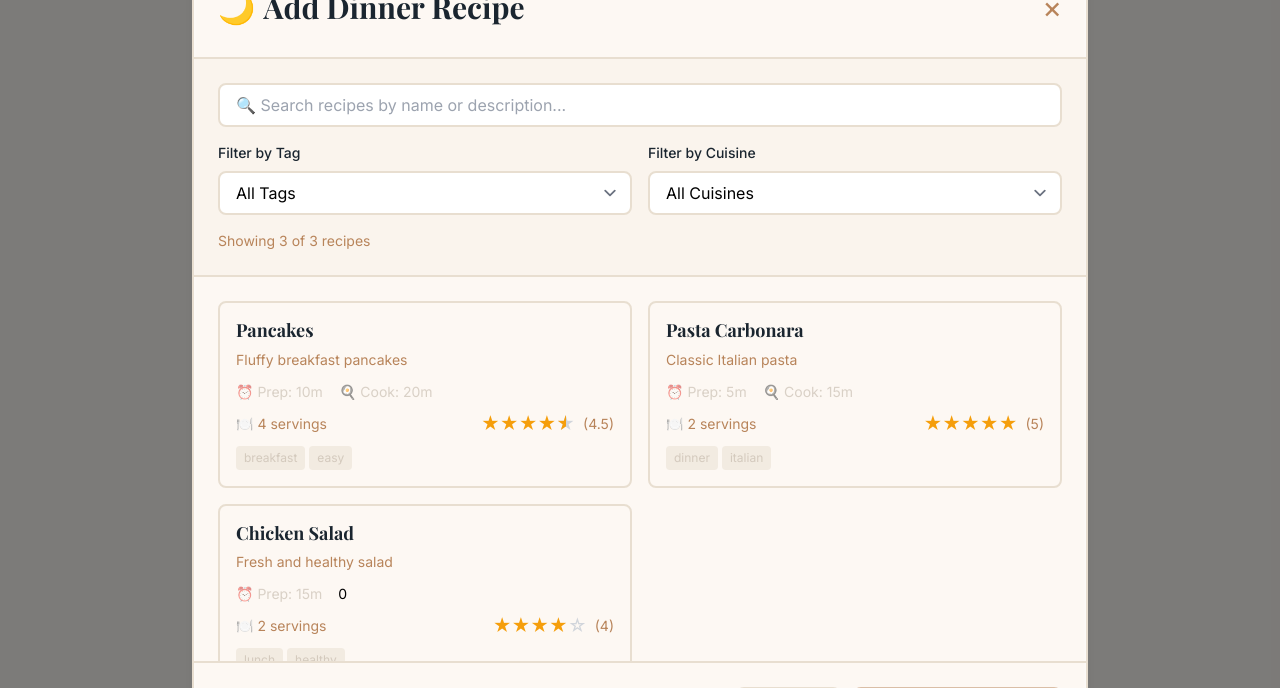
Test: RecipeSelectorModal › enables submit button when recipe selected
# Select a recipe
Click the text "Pancakes" at (425, 394), box [218,301,632,488]
(page scrolled)
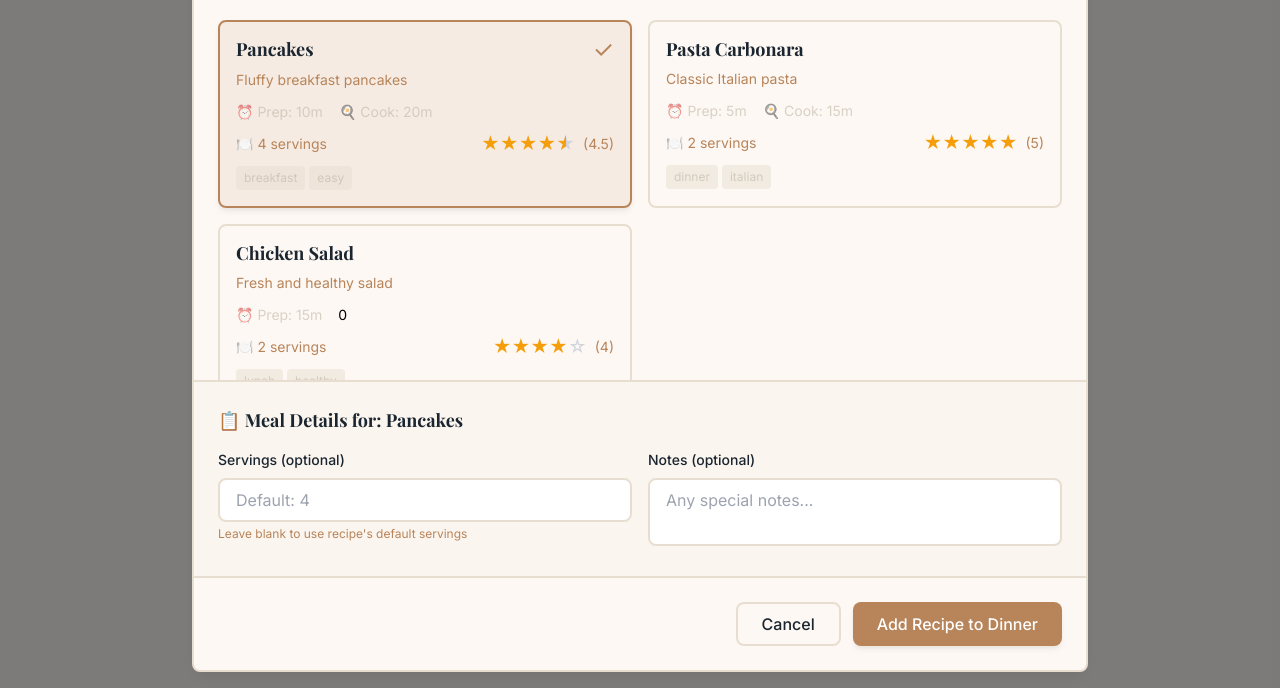
Now the button "Add Recipe to Dinner" is enabled, box [853,602,1062,646]
